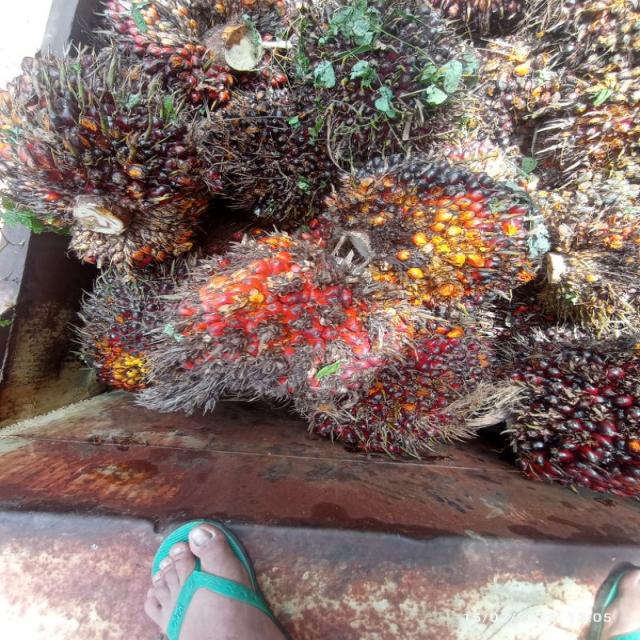fraksi 00: (291, 134, 586, 320), (0, 27, 209, 272), (182, 60, 408, 237), (273, 0, 474, 170)
fraksi 1: (264, 297, 524, 479)
fraksi 4: (131, 228, 413, 420)
